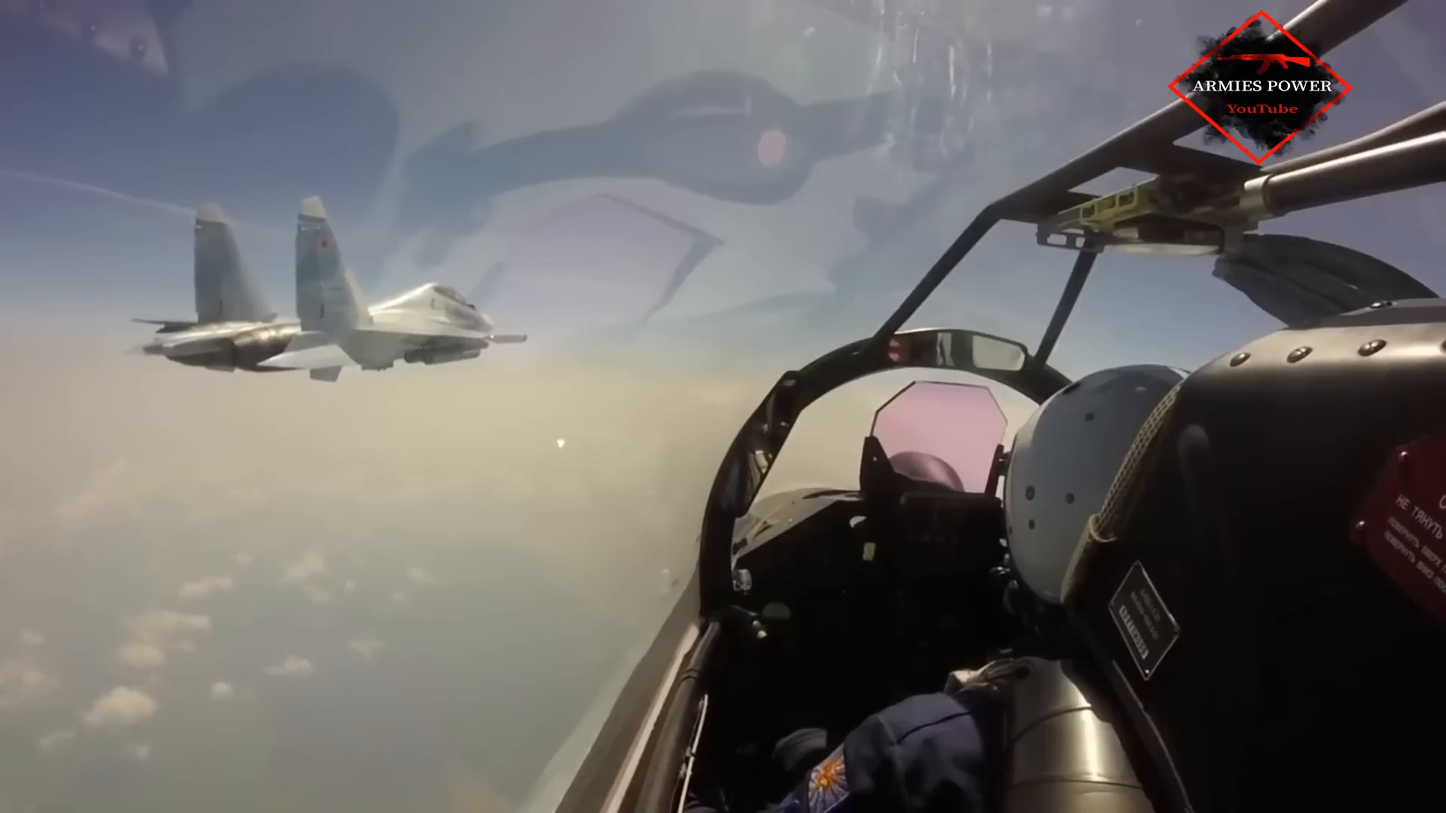Su35: (129, 196, 527, 384)
